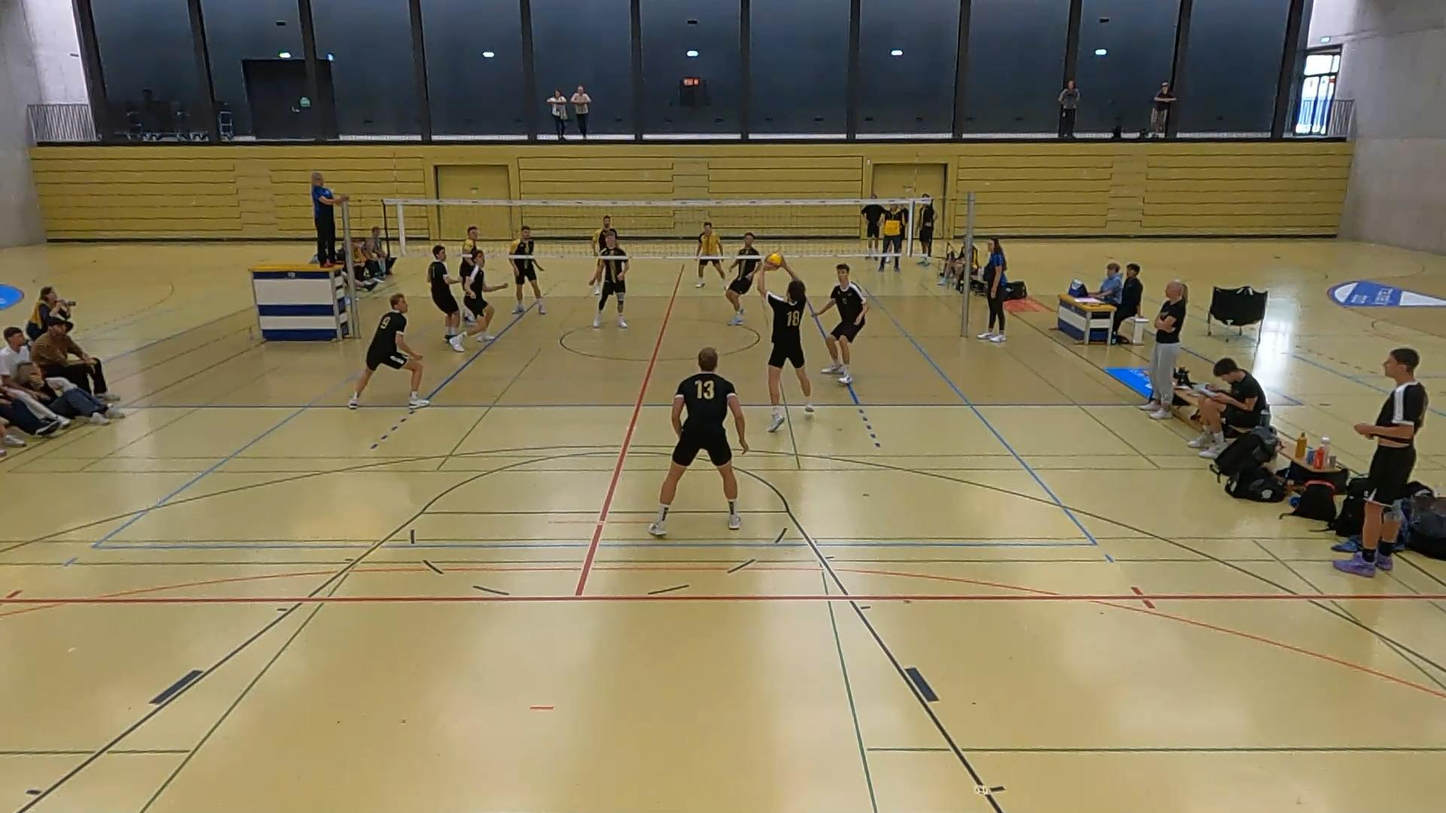difesa: (757, 250, 819, 439)
